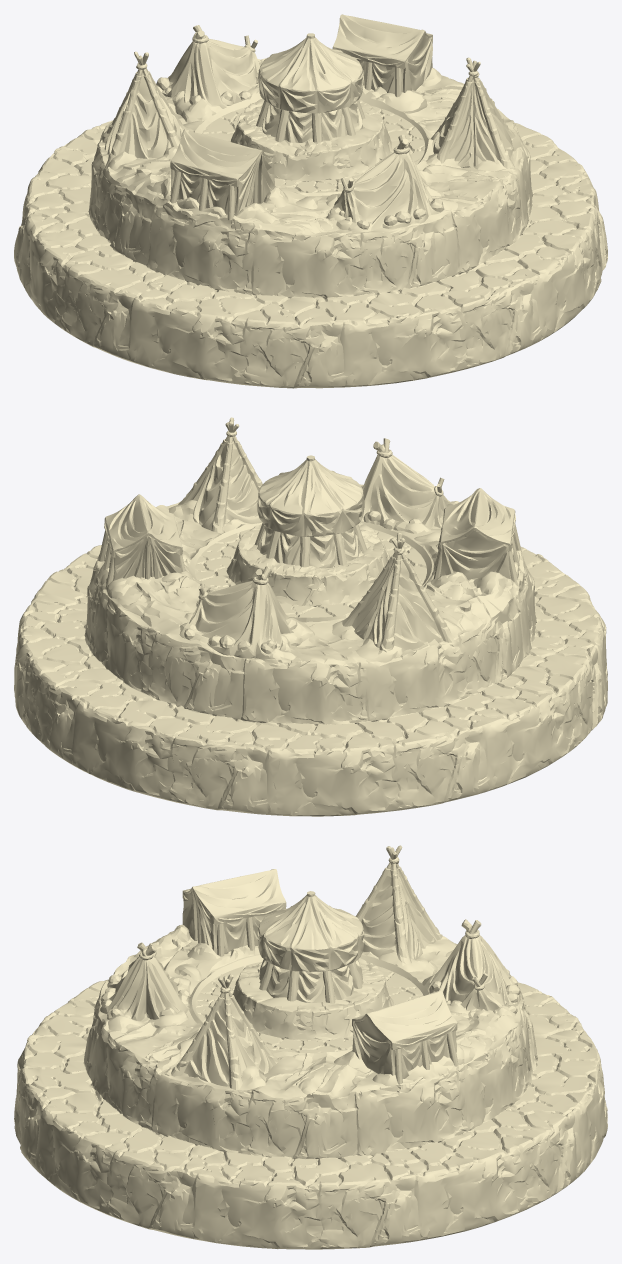
The model's file is Haven_Bottom_Bone.obj.
The picture shows the model from 3 angles, top to bottom: view 1: azimuth 30°, elevation 25°; view 2: azimuth 150°, elevation 25°; view 3: azimuth 270°, elevation 25°; orthographic projection.
Parts seen in each view (by area): view 1: HavenBottom_Decimate_0; view 2: HavenBottom_Decimate_0; view 3: HavenBottom_Decimate_0.
Boxes of the visible parts, box(x1,y1,x2,y2) form: HavenBottom_Decimate_0: box(14, 14, 607, 388); HavenBottom_Decimate_0: box(14, 417, 607, 816); HavenBottom_Decimate_0: box(14, 845, 607, 1249).
Size of the model in its own units: 2.7 by 1.18 by 2.7.
